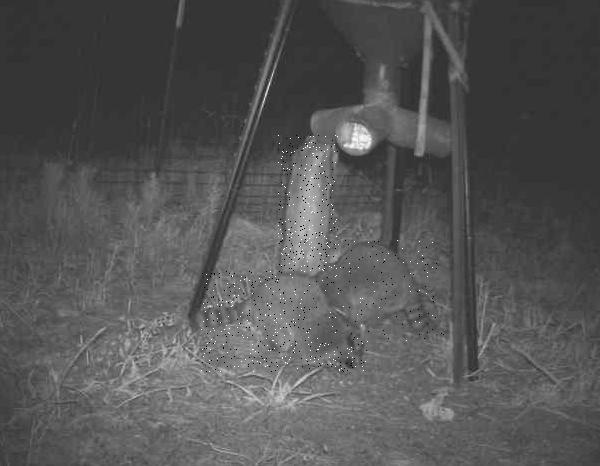Raccoon: (201, 270, 368, 372), (311, 241, 445, 342), (278, 135, 338, 271)
